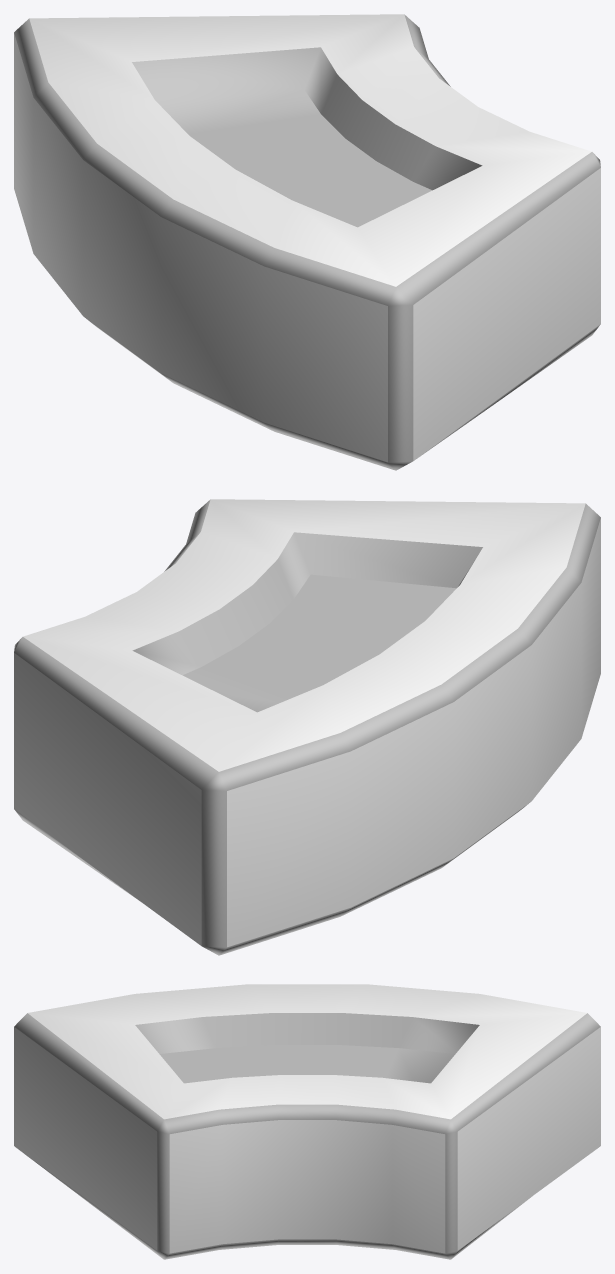
The model's file is Brick_LOD2_30 Deg.fbx.
The picture shows the model from 3 angles, top to bottom: view 1: azimuth 30°, elevation 25°; view 2: azimuth 150°, elevation 25°; view 3: azimuth 270°, elevation 25°; orthographic projection. The views are drawn at different scales.
Parts seen in each view (by area): view 1: Brick_LOD2_30_Deg; view 2: Brick_LOD2_30_Deg; view 3: Brick_LOD2_30_Deg.
Boxes of the visible parts, left/top/right/bottom form: Brick_LOD2_30_Deg: left=14, top=14, right=600, bottom=470; Brick_LOD2_30_Deg: left=14, top=499, right=600, bottom=955; Brick_LOD2_30_Deg: left=14, top=984, right=600, bottom=1259.
Size of the model in its own units: 1.1 by 0.5 by 1.89.
1 material, 1 textured.
